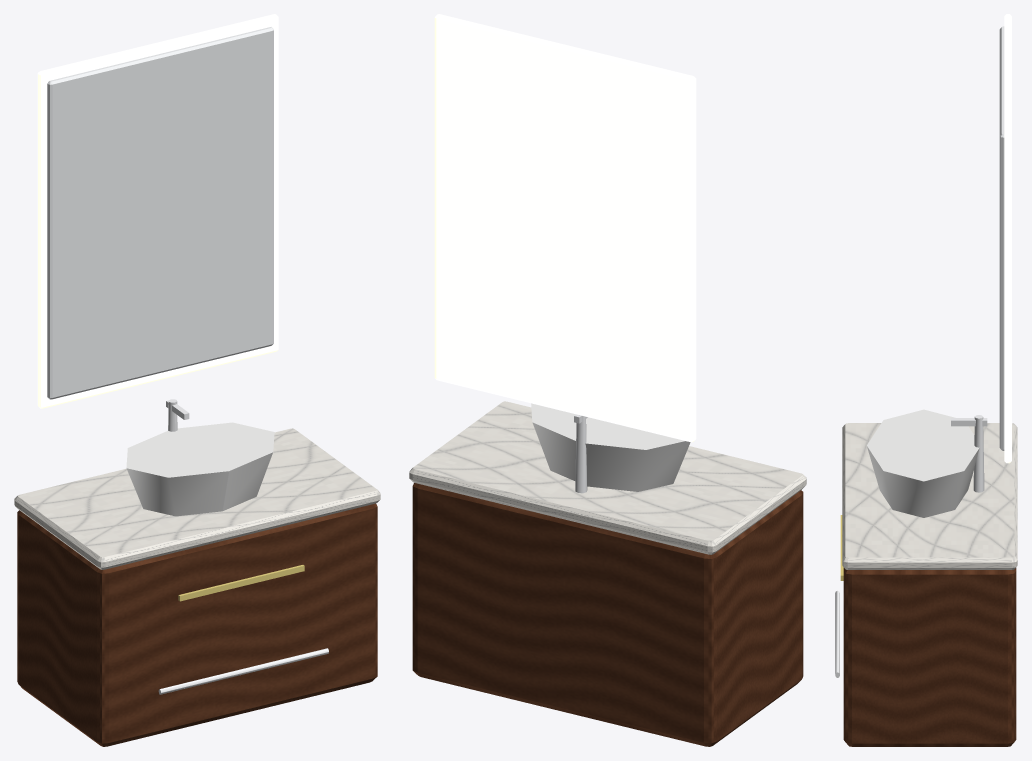
File: lavabo_vanity_led_mirror.glb
3 renders of one model, left to right at view 1: azimuth 30°, elevation 25°; view 2: azimuth 150°, elevation 25°; view 3: azimuth 270°, elevation 25°, orthographic. The views are drawn at different scales.
Parts seen in each view (by area): view 1: lavabo_vanity_led_mirror_mirrorSurface, lavabo_vanity_led_mirror_woodWalnut, lavabo_vanity_led_mirror_marbleCarrara, lavabo_vanity_led_mirror_ceramicWhite, lavabo_vanity_led_mirror_emissiveWarm, lavabo_vanity_led_mirror_metalChrome, lavabo_vanity_led_mirror_metalBrass; view 2: lavabo_vanity_led_mirror_emissiveWarm, lavabo_vanity_led_mirror_woodWalnut, lavabo_vanity_led_mirror_marbleCarrara, lavabo_vanity_led_mirror_ceramicWhite, lavabo_vanity_led_mirror_metalChrome; view 3: lavabo_vanity_led_mirror_woodWalnut, lavabo_vanity_led_mirror_marbleCarrara, lavabo_vanity_led_mirror_ceramicWhite, lavabo_vanity_led_mirror_emissiveWarm, lavabo_vanity_led_mirror_mirrorSurface, lavabo_vanity_led_mirror_metalChrome.
Part boxes in pixels (x1,y1,x2,y2): lavabo_vanity_led_mirror_mirrorSurface: [47, 27, 273, 399]; lavabo_vanity_led_mirror_woodWalnut: [17, 503, 377, 746]; lavabo_vanity_led_mirror_marbleCarrara: [14, 428, 380, 569]; lavabo_vanity_led_mirror_ceramicWhite: [126, 422, 274, 516]; lavabo_vanity_led_mirror_emissiveWarm: [37, 14, 278, 408]; lavabo_vanity_led_mirror_metalChrome: [158, 399, 328, 694]; lavabo_vanity_led_mirror_metalBrass: [178, 565, 304, 601]; lavabo_vanity_led_mirror_emissiveWarm: [434, 14, 696, 442]; lavabo_vanity_led_mirror_woodWalnut: [412, 483, 803, 746]; lavabo_vanity_led_mirror_marbleCarrara: [409, 401, 806, 554]; lavabo_vanity_led_mirror_ceramicWhite: [531, 403, 690, 491]; lavabo_vanity_led_mirror_metalChrome: [574, 414, 587, 493]; lavabo_vanity_led_mirror_woodWalnut: [843, 568, 1016, 746]; lavabo_vanity_led_mirror_marbleCarrara: [842, 423, 1017, 569]; lavabo_vanity_led_mirror_ceramicWhite: [866, 409, 979, 517]; lavabo_vanity_led_mirror_emissiveWarm: [1004, 14, 1011, 463]; lavabo_vanity_led_mirror_mirrorSurface: [999, 26, 1004, 450]; lavabo_vanity_led_mirror_metalChrome: [835, 415, 987, 677].
Size of what is drawn, in the model's own units: 0.96 by 1.99 by 0.54.
Materials: 7 (2 with a texture image).
